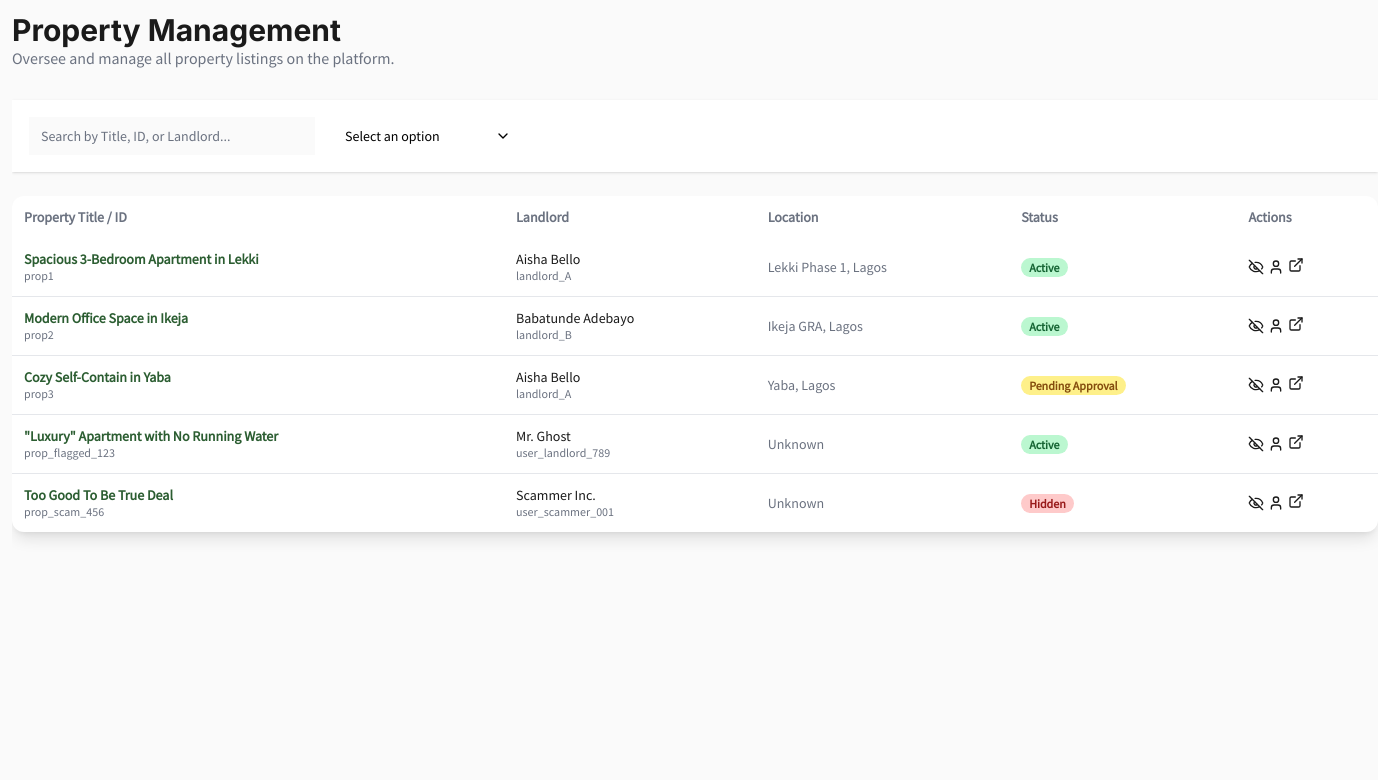
Test case: PropertyManagement Panel Component › should filter properties by search term
Expected: the link "Spacious 3-Bedroom Apartment in Lekki" is shown, [24,250,259,268]
Expected: the link "Modern Office Space in Ikeja" is shown, [24,309,188,327]
Type "lekki" into the field with placeholder "Search by Title, ID, or Landlord..." at (172,136), box [28,116,316,156]
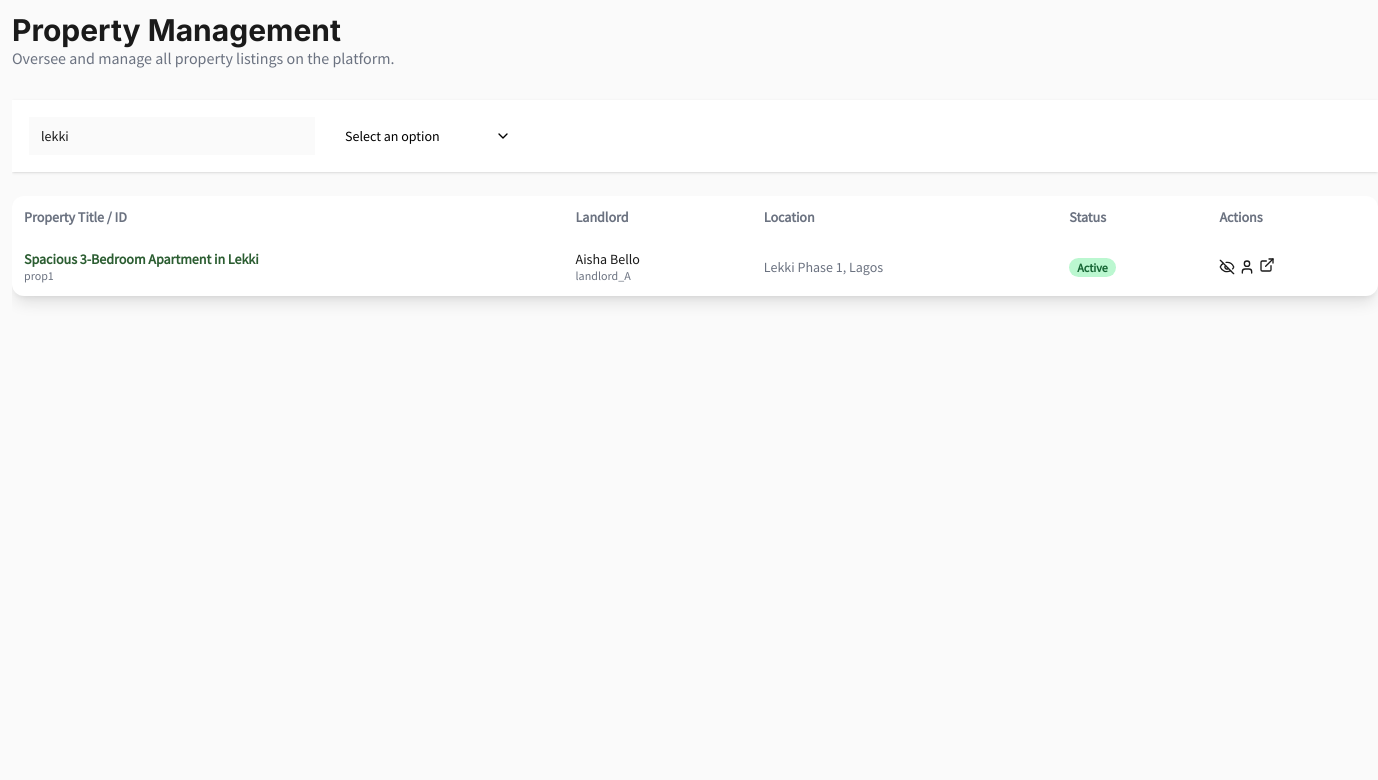
Expected: the link "Spacious 3-Bedroom Apartment in Lekki" is shown, [24,250,259,268]
Expected: the link "Modern Office Space in Ikeja" is gone
